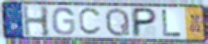C: (77, 7, 103, 37)
G: (51, 7, 76, 37)
H: (21, 3, 52, 38)
L: (160, 9, 183, 38)
P: (131, 7, 159, 39)
Q: (105, 7, 132, 38)
